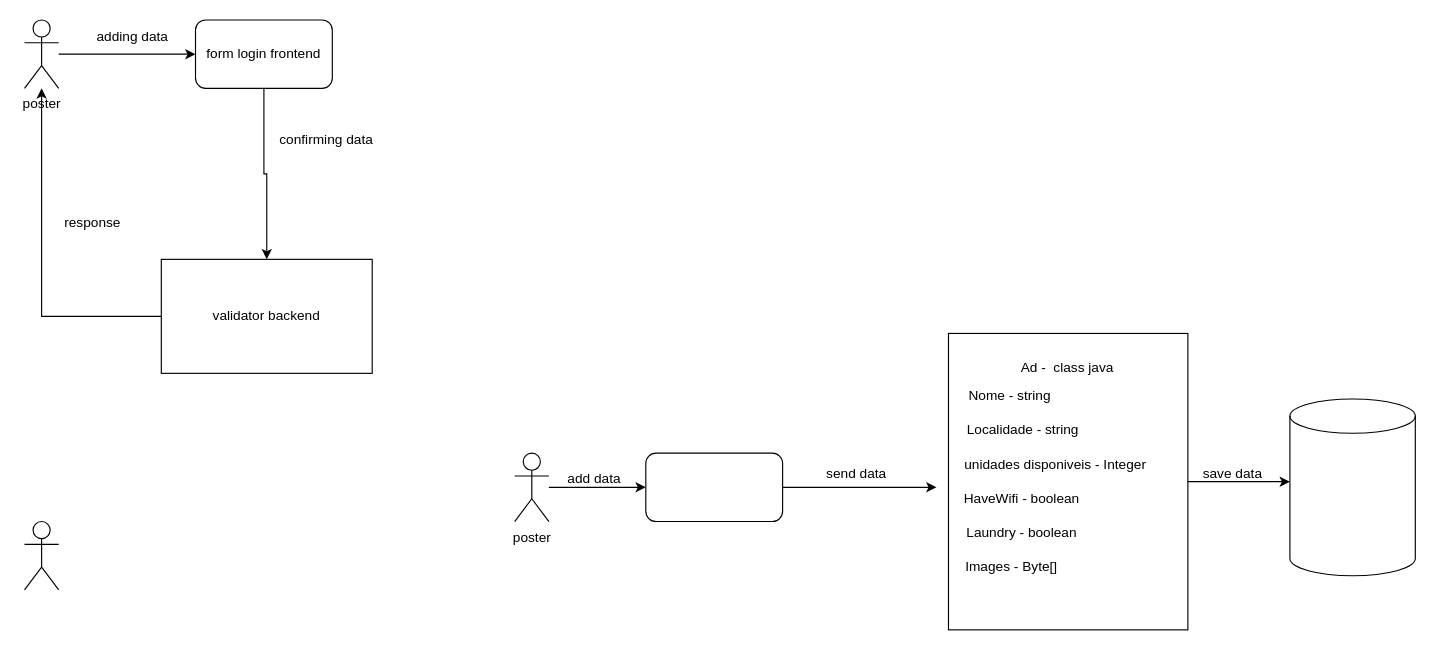
The diagram is 1435 pixels wide and 650 high, and some of its shapes have lost their labels. Here are the shapes that lost their labels. From the top down, the centre of each, then its label:
(714,487): form on frontend
(41,555): applyer
